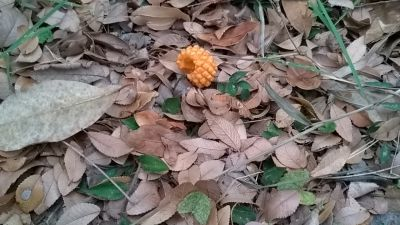eggs: (176, 46, 219, 86)
